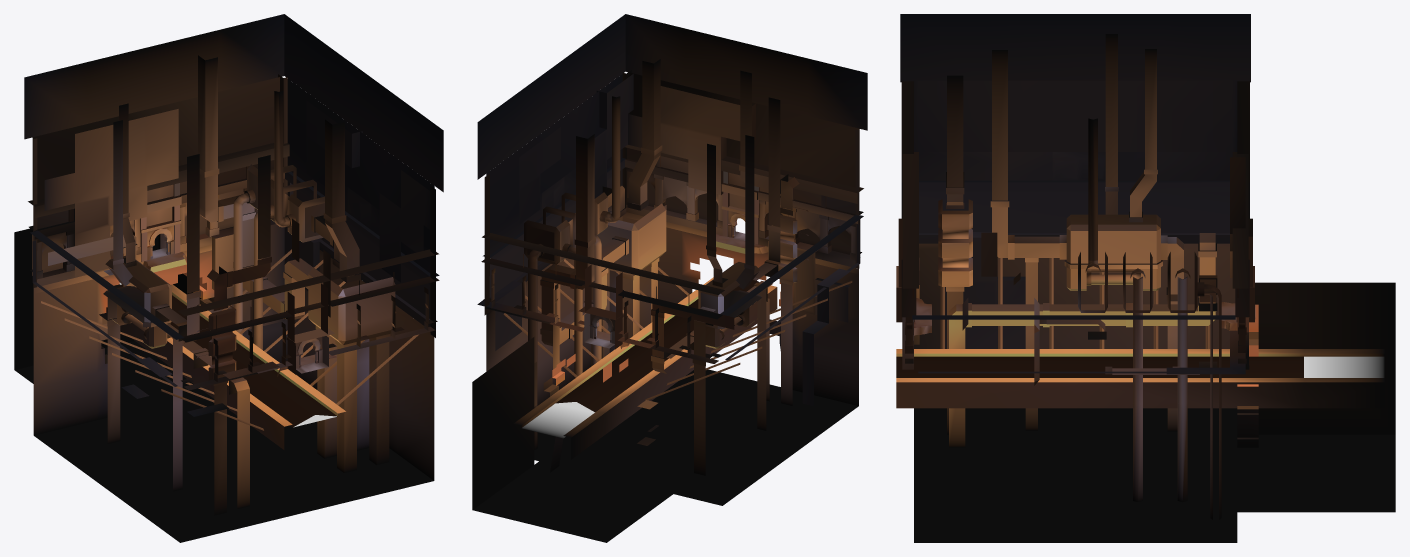
The model's file is 06Lava.gltf.
The picture shows the model from 3 angles, left to right: view 1: azimuth 30°, elevation 25°; view 2: azimuth 150°, elevation 25°; view 3: azimuth 270°, elevation 25°; orthographic projection. The views are drawn at different scales.
Visible parts, largest first — view 1: stg031_o28_Mesh_0033, stg031_o28_Mesh_0051, stg031_o28_Mesh_0004, stg031_o28_Mesh_0029, stg031_o28_Mesh_0021, stg031_o28_Mesh_0005, stg031_o28_Mesh_0013, stg031_o28_Mesh_0027, stg031_o28_Mesh_0017, stg031_o28_Mesh_0046, stg031_o28_Mesh_0024, stg031_g28_Mesh_0000 (+13 smaller); view 2: stg031_o28_Mesh_0033, stg031_o28_Mesh_0051, stg031_o28_Mesh_0004, stg031_o28_Mesh_0029, stg031_o28_Mesh_0021, stg031_o28_Mesh_0017, stg031_o28_Mesh_0005, stg031_o28_Mesh_0013, stg031_o28_Mesh_0027, stg031_o28_Mesh_0046, stg031_o28_Mesh_0024, stg031_g28_Mesh_0000 (+14 smaller); view 3: stg031_o28_Mesh_0033, stg031_o28_Mesh_0051, stg031_o28_Mesh_0004, stg031_o28_Mesh_0017, stg031_o28_Mesh_0021, stg031_o28_Mesh_0005, stg031_o28_Mesh_0065, stg031_o28_Mesh_0027, stg031_g28_Mesh_0000, stg031_o28_Mesh_0013, stg031_o28_Mesh_0029, stg031_o28_Mesh_0046 (+9 smaller).
Boxes of the visible parts, x1=… form: stg031_o28_Mesh_0033: x1=14, y1=228, x2=434, y2=542; stg031_o28_Mesh_0051: x1=24, y1=14, x2=443, y2=433; stg031_o28_Mesh_0004: x1=48, y1=55, x2=395, y2=515; stg031_o28_Mesh_0029: x1=44, y1=101, x2=430, y2=416; stg031_o28_Mesh_0021: x1=32, y1=77, x2=432, y2=246; stg031_o28_Mesh_0005: x1=41, y1=91, x2=418, y2=430; stg031_o28_Mesh_0013: x1=75, y1=116, x2=400, y2=394; stg031_o28_Mesh_0027: x1=30, y1=74, x2=439, y2=345; stg031_o28_Mesh_0017: x1=106, y1=166, x2=345, y2=449; stg031_o28_Mesh_0046: x1=28, y1=143, x2=438, y2=316; stg031_o28_Mesh_0024: x1=77, y1=120, x2=399, y2=322; stg031_g28_Mesh_0000: x1=120, y1=284, x2=337, y2=427; stg031_o28_Mesh_0033: x1=472, y1=212, x2=858, y2=542; stg031_o28_Mesh_0051: x1=477, y1=14, x2=867, y2=371; stg031_o28_Mesh_0004: x1=527, y1=59, x2=799, y2=475; stg031_o28_Mesh_0029: x1=477, y1=74, x2=850, y2=406; stg031_o28_Mesh_0021: x1=488, y1=72, x2=859, y2=230; stg031_o28_Mesh_0017: x1=514, y1=194, x2=797, y2=459; stg031_o28_Mesh_0005: x1=503, y1=96, x2=852, y2=449; stg031_o28_Mesh_0013: x1=519, y1=122, x2=815, y2=366; stg031_o28_Mesh_0027: x1=483, y1=70, x2=863, y2=322; stg031_o28_Mesh_0046: x1=482, y1=145, x2=863, y2=294; stg031_o28_Mesh_0024: x1=520, y1=124, x2=812, y2=311; stg031_g28_Mesh_0000: x1=556, y1=280, x2=759, y2=412; stg031_o28_Mesh_0033: x1=914, y1=243, x2=1395, y2=542; stg031_o28_Mesh_0051: x1=900, y1=14, x2=1250, y2=348; stg031_o28_Mesh_0004: x1=938, y1=34, x2=1216, y2=447; stg031_o28_Mesh_0017: x1=896, y1=216, x2=1384, y2=408; stg031_o28_Mesh_0021: x1=918, y1=80, x2=1231, y2=151; stg031_o28_Mesh_0005: x1=940, y1=118, x2=1221, y2=519; stg031_o28_Mesh_0065: x1=919, y1=191, x2=1229, y2=233; stg031_o28_Mesh_0027: x1=896, y1=80, x2=1254, y2=319; stg031_g28_Mesh_0000: x1=896, y1=356, x2=1303, y2=377; stg031_o28_Mesh_0013: x1=938, y1=169, x2=1217, y2=374; stg031_o28_Mesh_0029: x1=914, y1=157, x2=1245, y2=374; stg031_o28_Mesh_0046: x1=902, y1=152, x2=1248, y2=288.
Size of the model in its own units: 94.87 by 120 by 139.
